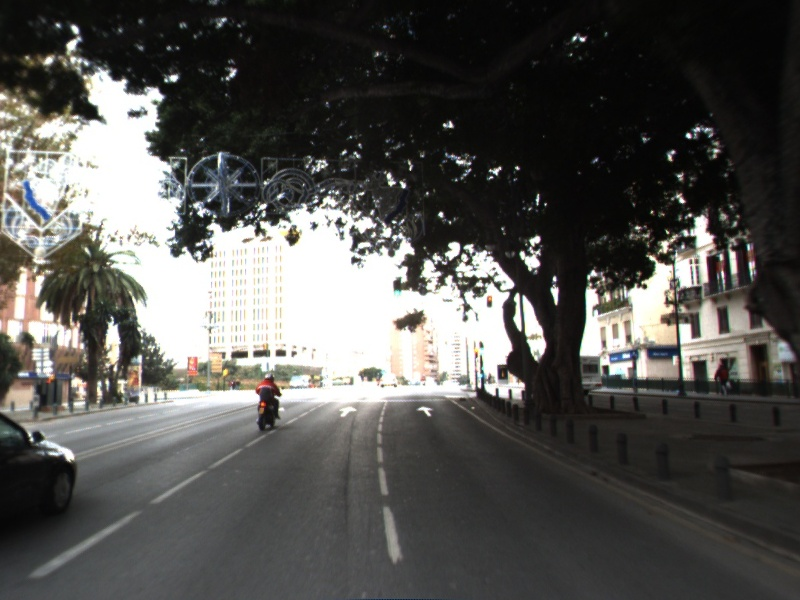STRAIGHT: (337, 404, 360, 419), (414, 404, 436, 419)
